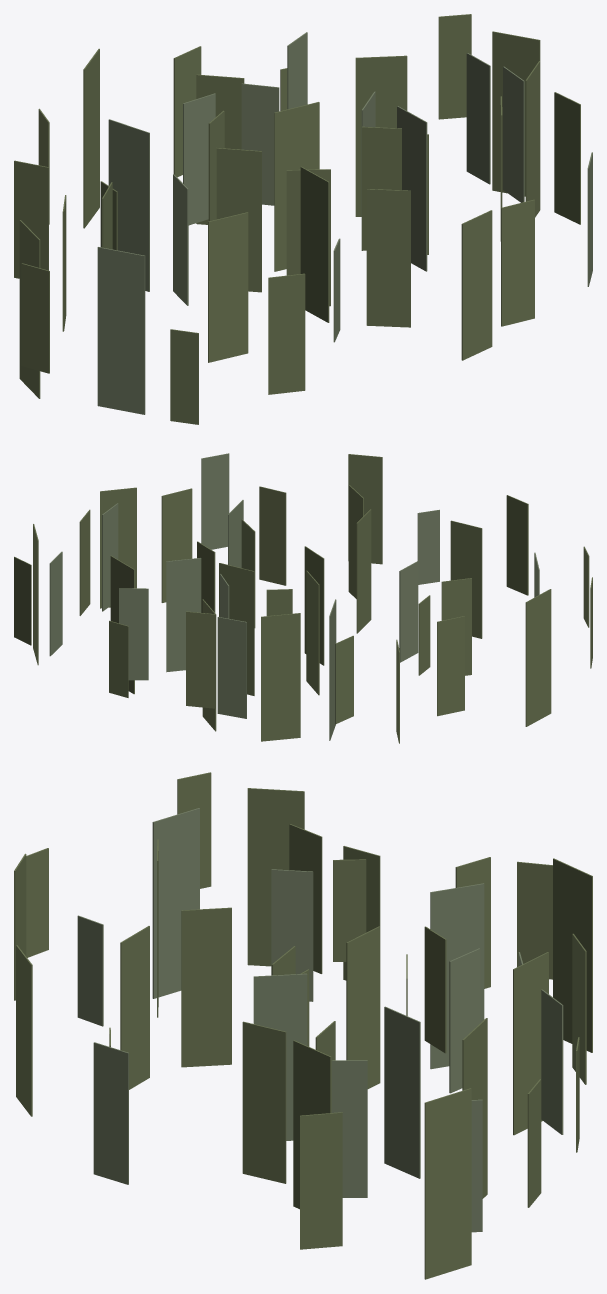
File: Grass 1.fbx
3 views of the same model, one above another, from view 1: azimuth 30°, elevation 25°; view 2: azimuth 150°, elevation 25°; view 3: azimuth 270°, elevation 25° (orthographic). The views are drawn at different scales.
Parts seen in each view (by area): view 1: Grass; view 2: Grass; view 3: Grass.
Boxes of the visible parts, <box> form: Grass: <box>14,14,592,424</box>; Grass: <box>14,453,592,743</box>; Grass: <box>14,772,592,1279</box>.
Bounding box in the file's own units: 200 × 57.21 × 147.
